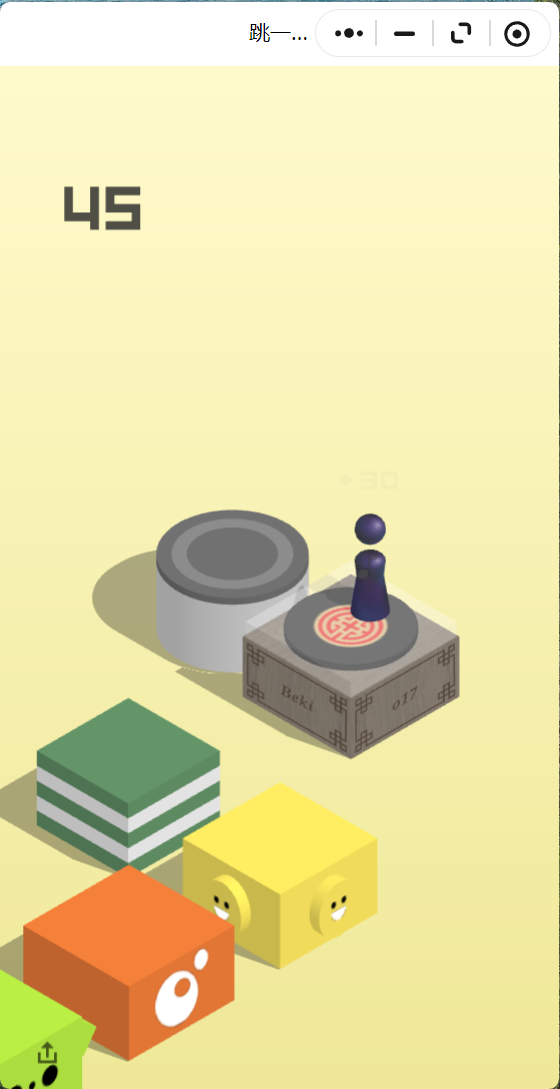piece: (355, 514, 386, 617)
target: (157, 510, 310, 597)
